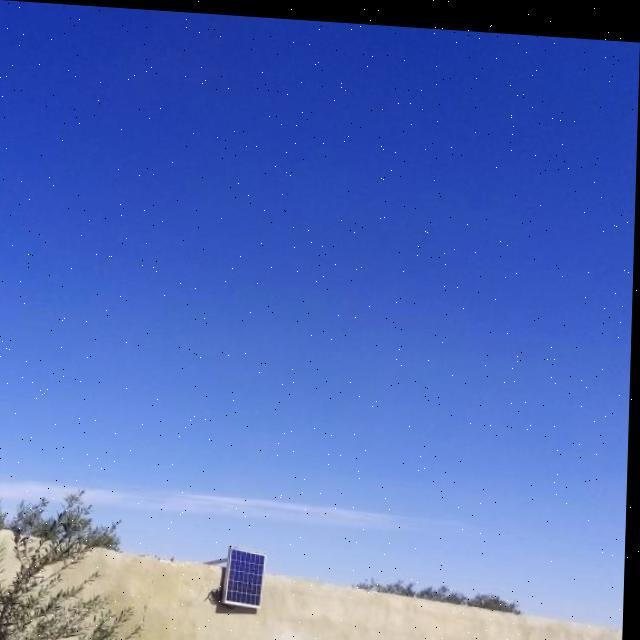Normal Solar Panel: (228, 543, 271, 605)
